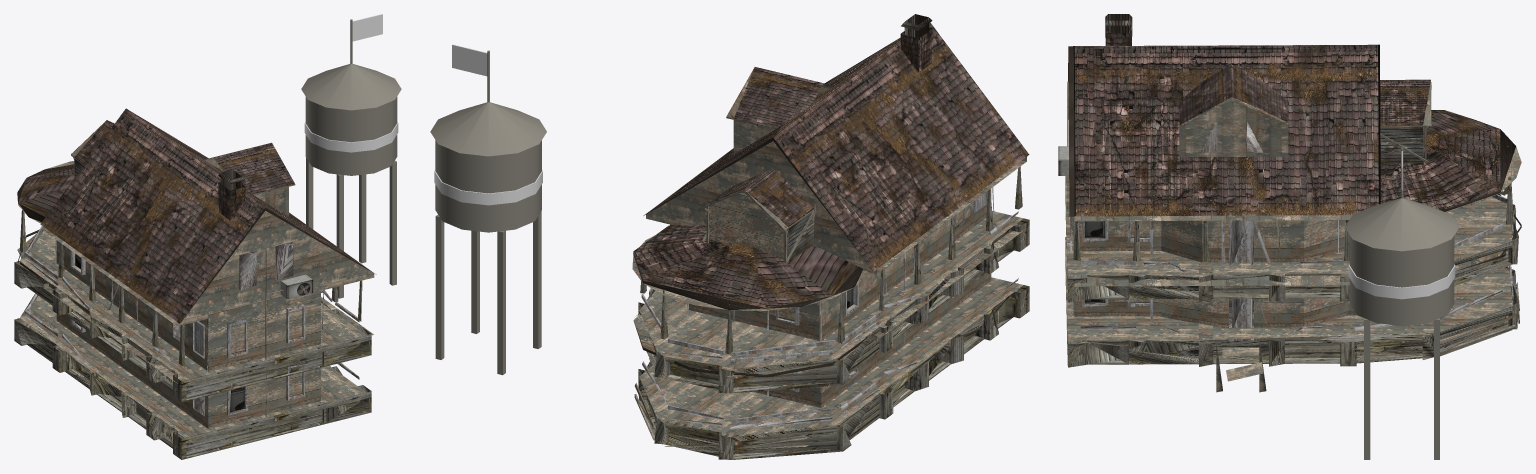
The picture shows the model from 3 angles, left to right: view 1: azimuth 30°, elevation 25°; view 2: azimuth 150°, elevation 25°; view 3: azimuth 270°, elevation 25°; orthographic projection. The views are drawn at different scales.
Visible parts, largest first — view 1: dweller_building_hq; view 2: dweller_building_hq; view 3: dweller_building_hq.
Boxes of the visible parts, box(x1,y1,x2,y2) form: dweller_building_hq: box(14, 14, 401, 459); dweller_building_hq: box(430, 14, 1029, 459); dweller_building_hq: box(1058, 14, 1521, 459).
Bounding box in the file's own units: 19.26 × 13.1 × 18.6.
6 materials, 4 textured.
